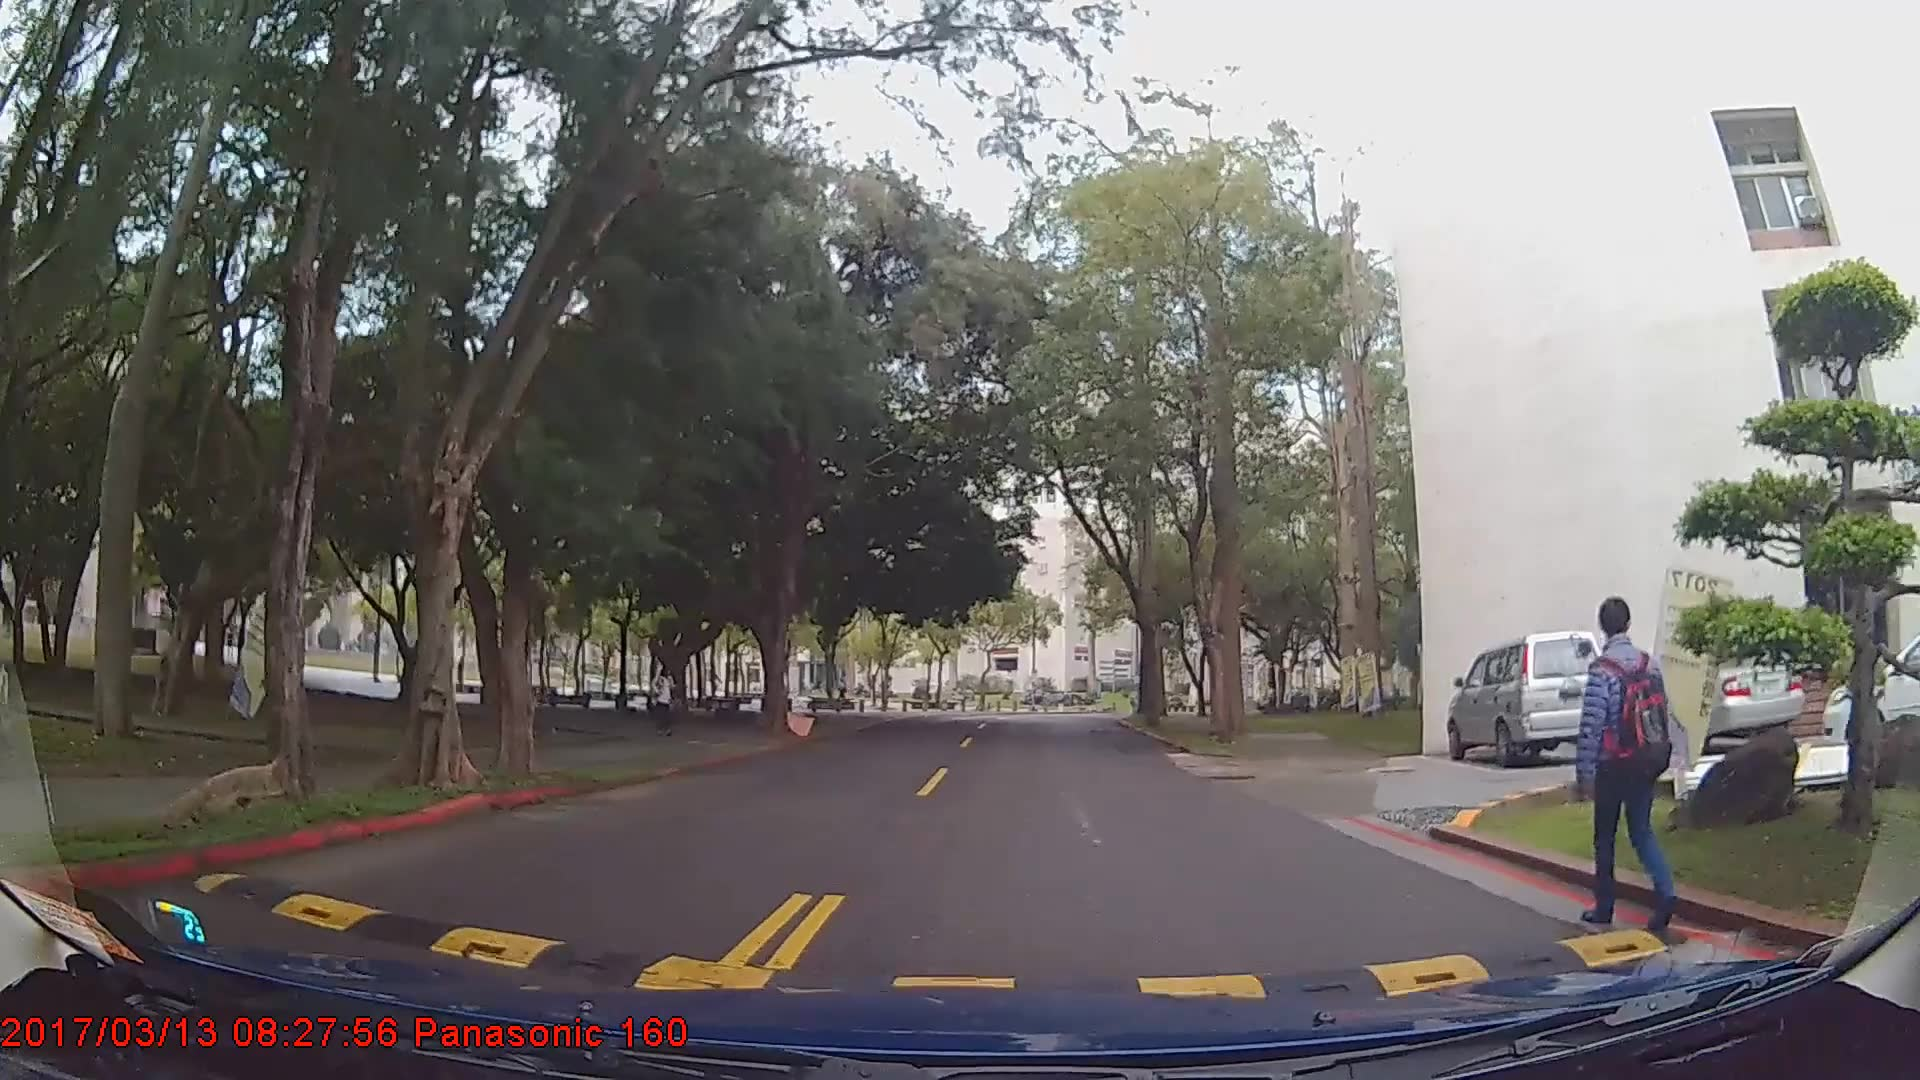pedestrian: (1572, 591, 1680, 928), (649, 663, 680, 737)
vehicle: (1445, 627, 1610, 764)
